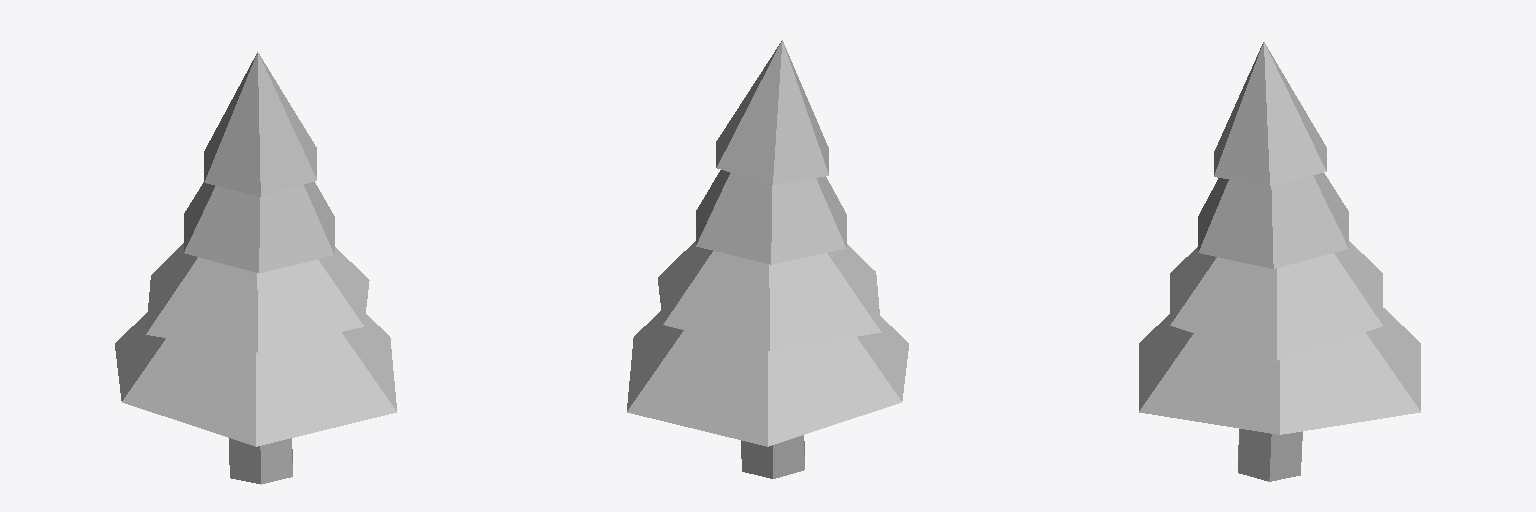
File: Prop_Tree_Pine_1.obj
3 renders of one model, left to right at view 1: azimuth 30°, elevation 25°; view 2: azimuth 150°, elevation 25°; view 3: azimuth 270°, elevation 25°, orthographic.
Visible parts, largest first — view 1: object2, object4, object3, object5, object1; view 2: object2, object4, object3, object5, object1; view 3: object2, object4, object3, object5, object1.
Boxes of the visible parts, x1,y1,x2,y2 form: object2: [115, 312, 396, 446]; object4: [146, 243, 369, 352]; object3: [184, 181, 334, 273]; object5: [204, 52, 316, 196]; object1: [229, 438, 292, 484]; object2: [627, 311, 908, 446]; object4: [658, 241, 881, 350]; object3: [696, 170, 846, 264]; object5: [716, 40, 828, 184]; object1: [741, 435, 804, 478]; object2: [1139, 308, 1420, 434]; object4: [1170, 241, 1382, 360]; object3: [1198, 173, 1348, 268]; object5: [1214, 42, 1326, 185]; object1: [1238, 429, 1302, 481].
Size of the model in its own units: 2.38 by 3.58 by 2.17.